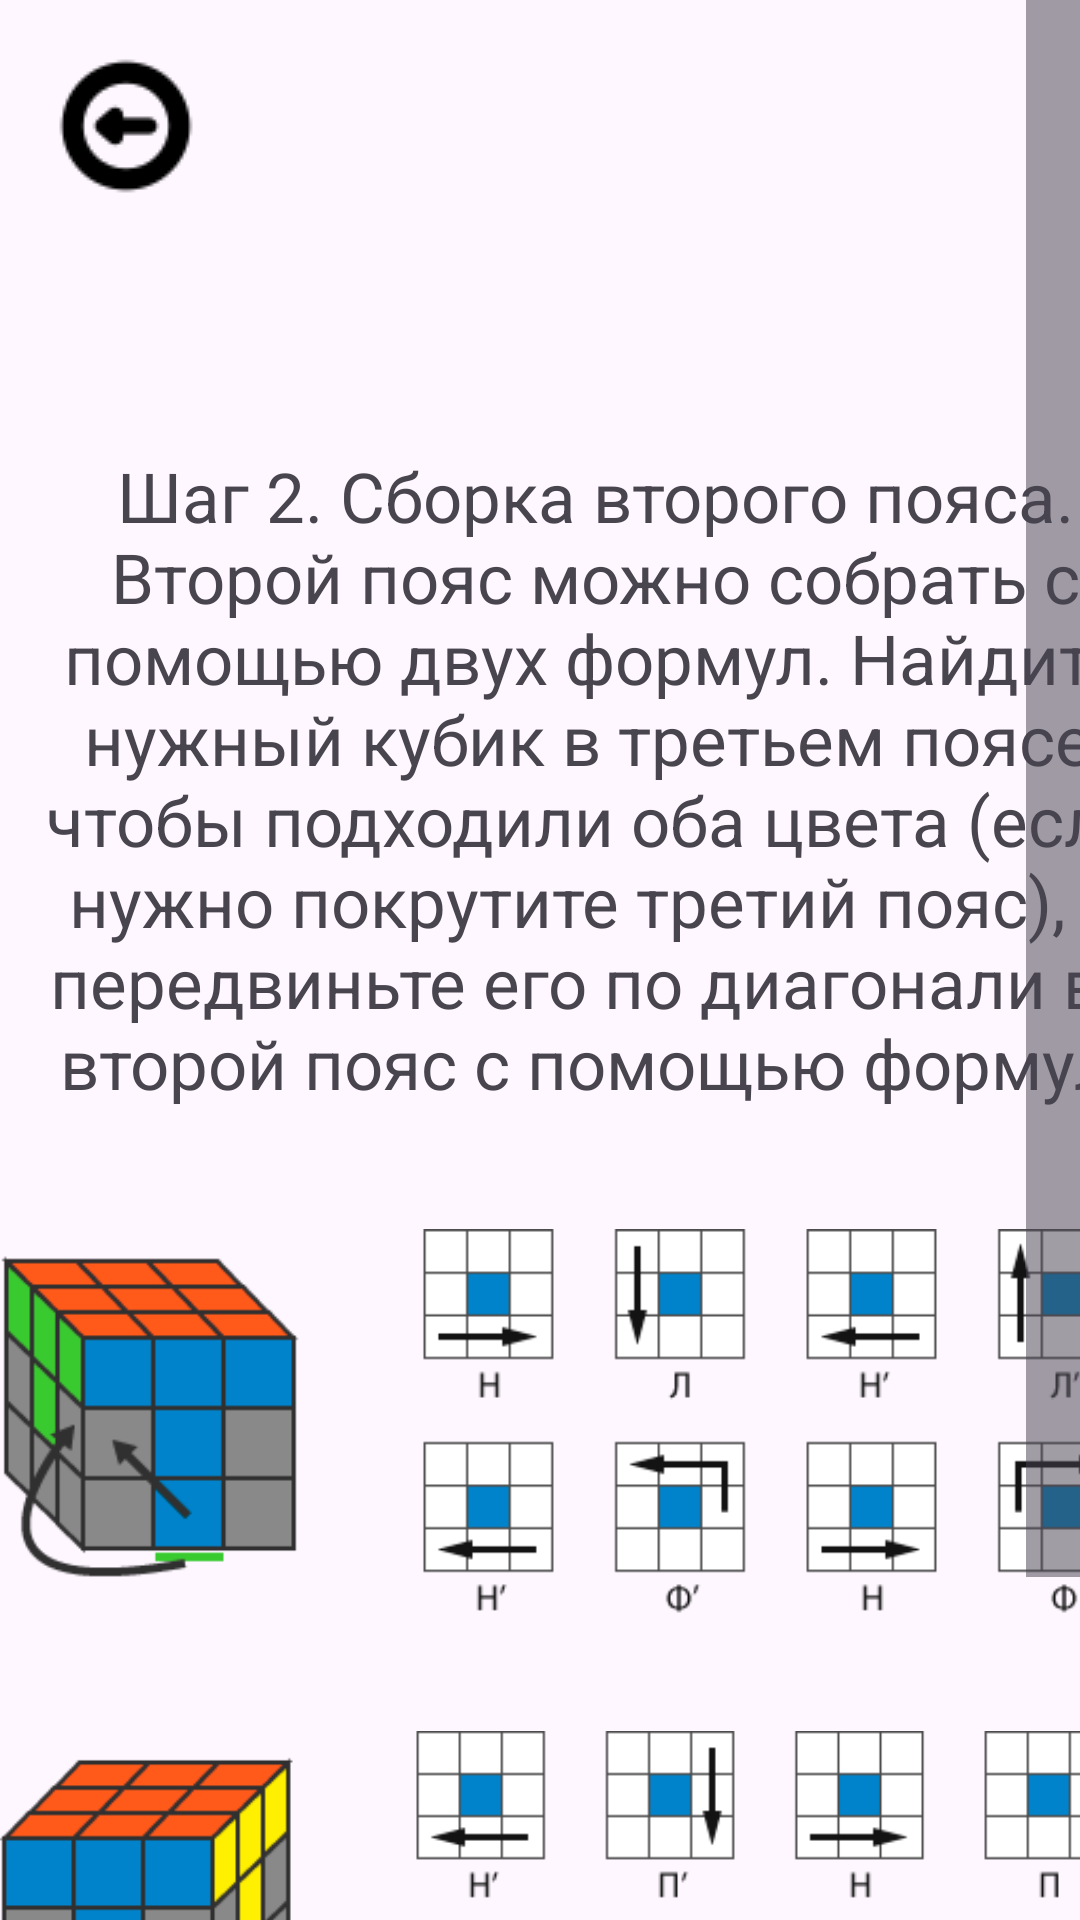

Where icons sit on this 1080×1920 app screen, as region(x1, y1, x2, y2):
back: region(59, 59, 193, 193)
